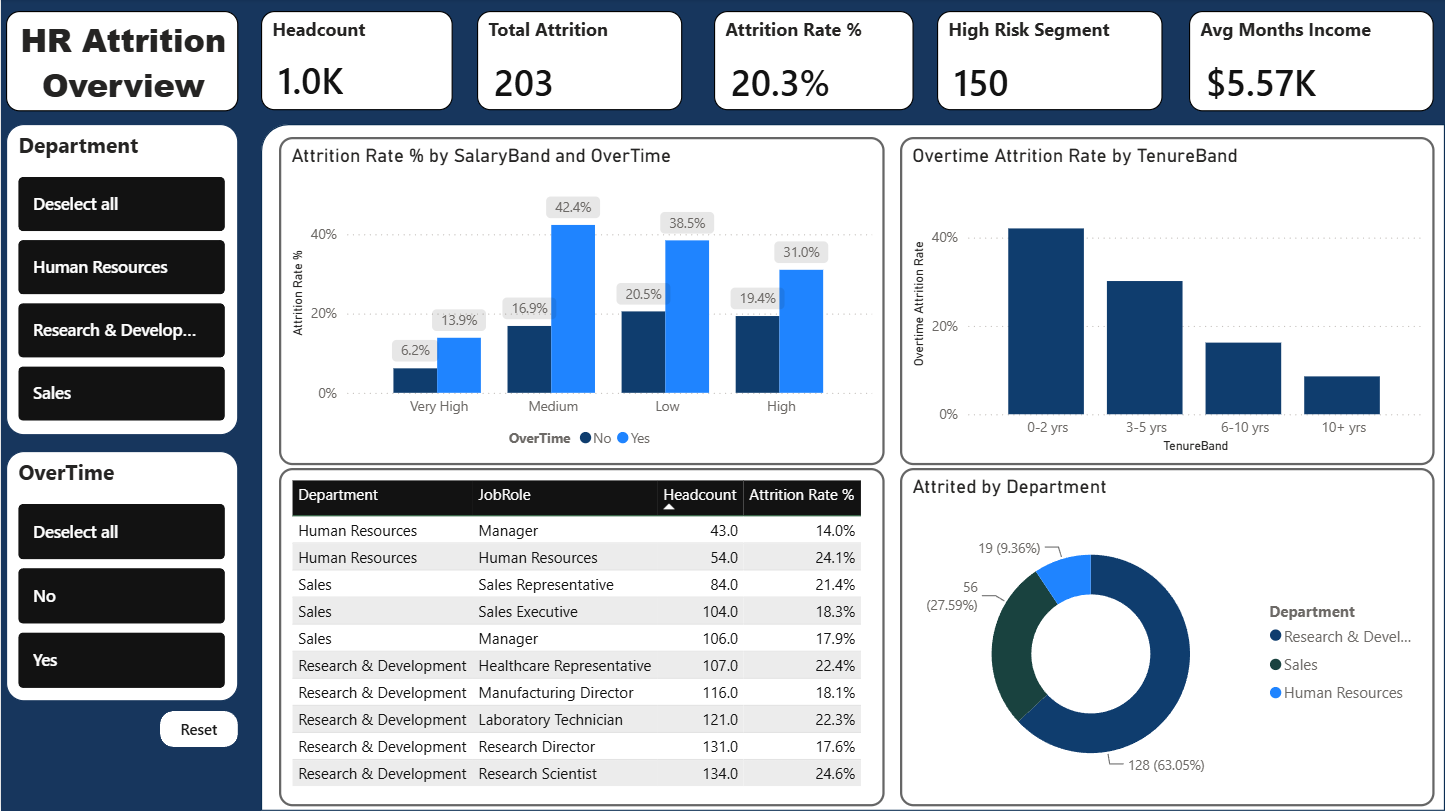

Layout of this report page (visuals, bound fields, positions):
{"tool":"powerbi","page":{"name":"Page 3","canvas":[1280,720],"ordinal":1},"visuals":[{"type":"cardVisual","title":"Headcount","fields":{"Data":["dim_employee.Total count"]},"box":[230.5,10.7,170,88],"z":0,"group":"g1"},{"type":"shape","box":[230.5,110.8,1049.9,609.2],"z":0},{"type":"group","id":"g1","title":"Group 1","box":[230.5,10.6,1040.1,88.7],"z":1000},{"type":"cardVisual","title":"Attrition Rate %","fields":{"Data":["dim_employee.Attrition Rate %"]},"box":[632.5,10.7,176.9,88.2],"z":1000,"group":"g1"},{"type":"textbox","title":"HR Attrition Overview","box":[4.4,10.6,205.7,88.7],"z":2000},{"type":"cardVisual","title":"Total Attrition","fields":{"Data":["dim_employee.Total Attrited"]},"box":[421.7,10.7,182.1,88.2],"z":2000,"group":"g1"},{"type":"cardVisual","title":"High Risk Segment","fields":{"Data":["dim_employee.high risk segment"]},"box":[830.3,10.7,200.4,88.2],"z":3000,"group":"g1"},{"type":"advancedSlicerVisual","fields":{"Values":["dim_job.Department"]},"box":[4.4,110.8,205.7,275.8],"z":3000},{"type":"cardVisual","title":"Avg Months Income","fields":{"Data":["dim_employee.Avg Months Income"]},"box":[1053.4,10.6,217.2,88.7],"z":4000,"group":"g1"},{"type":"advancedSlicerVisual","fields":{"Values":["fact_attrition.OverTime"]},"box":[4.4,400.8,205.7,221.7],"z":4000},{"type":"clusteredColumnChart","fields":{"Category":["fact_attrition.SalaryBand"],"Series":["fact_attrition.OverTime"],"Y":["dim_employee.Attrition Rate %"]},"box":[246.5,122.4,537.3,290.8],"z":5000},{"type":"columnChart","fields":{"Y":["fact_attrition.Overtime Attrition Rate"],"Category":["fact_attrition.TenureBand"]},"box":[797.1,122.4,474.4,290.8],"z":6000},{"type":"donutChart","fields":{"Category":["dim_job.Department"],"Y":["dim_employee.Total Attrited"]},"box":[797.1,415.9,474.4,299.7],"z":7000},{"type":"actionButton","title":"all clear","box":[141,631.3,69.2,31.9],"z":7503},{"type":"tableEx","fields":{"Values":["dim_job.Department","dim_job.JobRole","dim_employee.Total count","dim_employee.Attrition Rate %"]},"box":[246.5,415.9,537.3,299.7],"z":8000}]}

Visuals, with their boxes in screenshot pixels (x1, y1, x2, y2), scaled from the page's 1280x720 canvas onto the 1445x811 screenshot:
"Headcount" cardVisual: l=260, t=12, r=452, b=111
shape: l=260, t=125, r=1444, b=810
"Group 1" group: l=260, t=12, r=1434, b=112
"Attrition Rate %" cardVisual: l=714, t=12, r=914, b=111
"HR Attrition Overview" textbox: l=5, t=12, r=237, b=112
"Total Attrition" cardVisual: l=476, t=12, r=682, b=111
"High Risk Segment" cardVisual: l=937, t=12, r=1164, b=111
advancedSlicerVisual - dim_job.Department: l=5, t=125, r=237, b=435
"Avg Months Income" cardVisual: l=1189, t=12, r=1434, b=112
advancedSlicerVisual - fact_attrition.OverTime: l=5, t=451, r=237, b=701
clusteredColumnChart - fact_attrition.SalaryBand x fact_attrition.OverTime: l=278, t=138, r=885, b=465
columnChart - fact_attrition.Overtime Attrition Rate x fact_attrition.TenureBand: l=900, t=138, r=1435, b=465
donutChart - dim_job.Department x dim_employee.Total Attrited: l=900, t=468, r=1435, b=806
"all clear" actionButton: l=159, t=711, r=237, b=747
tableEx - dim_job.Department x dim_job.JobRole: l=278, t=468, r=885, b=806
